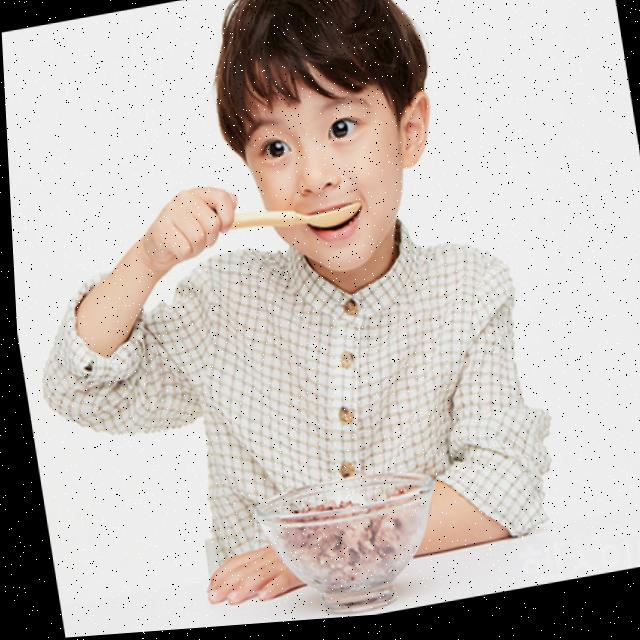eating-person: (0, 0, 579, 640)
